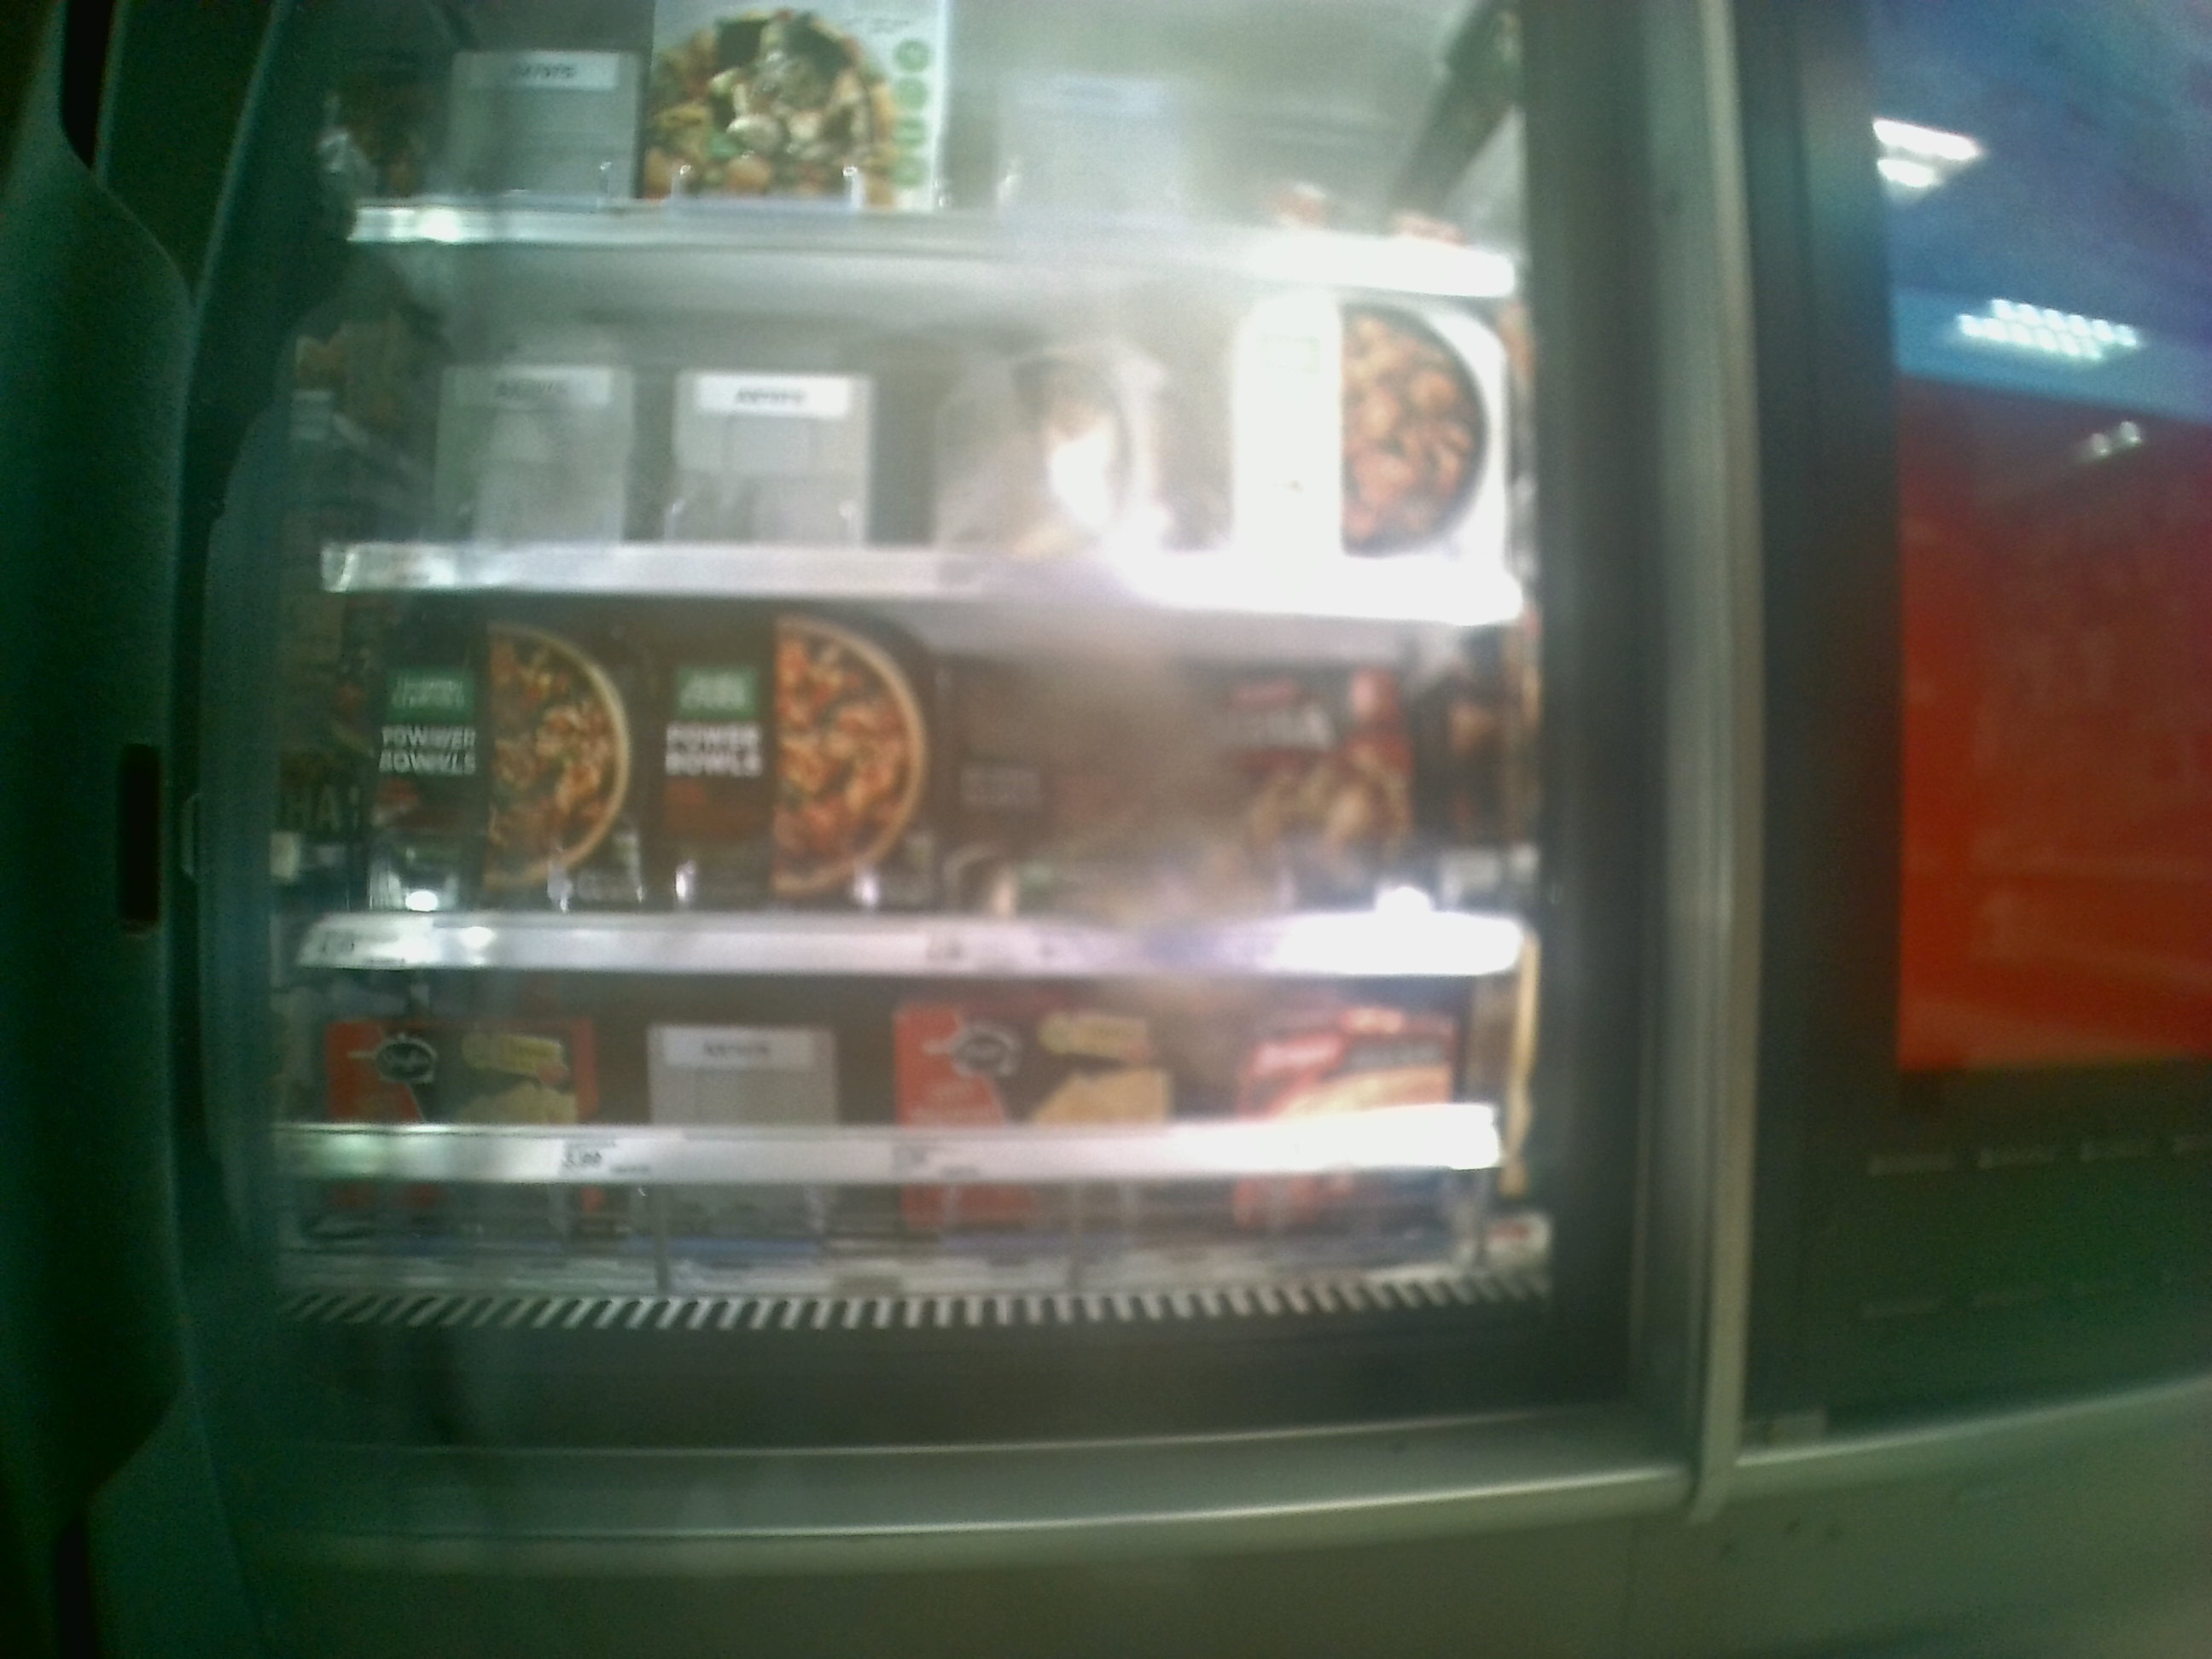shelf: (308, 591, 1554, 974), (286, 978, 1571, 1344), (334, 239, 1521, 603)
